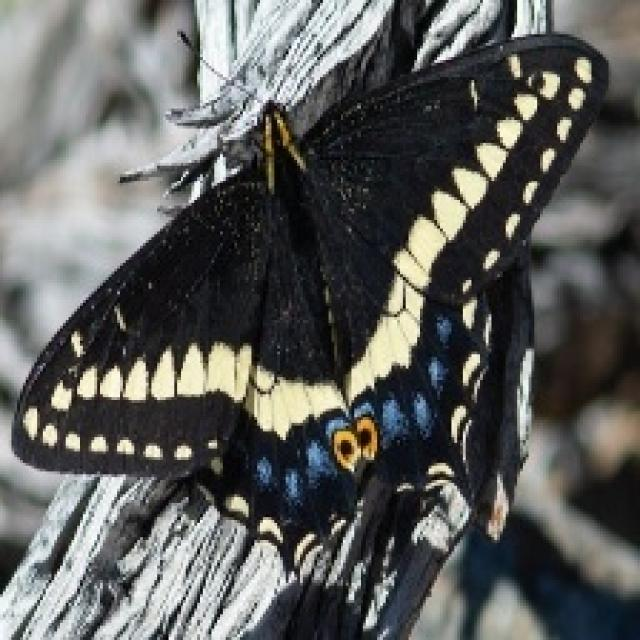butterfly: (9, 0, 608, 637)
